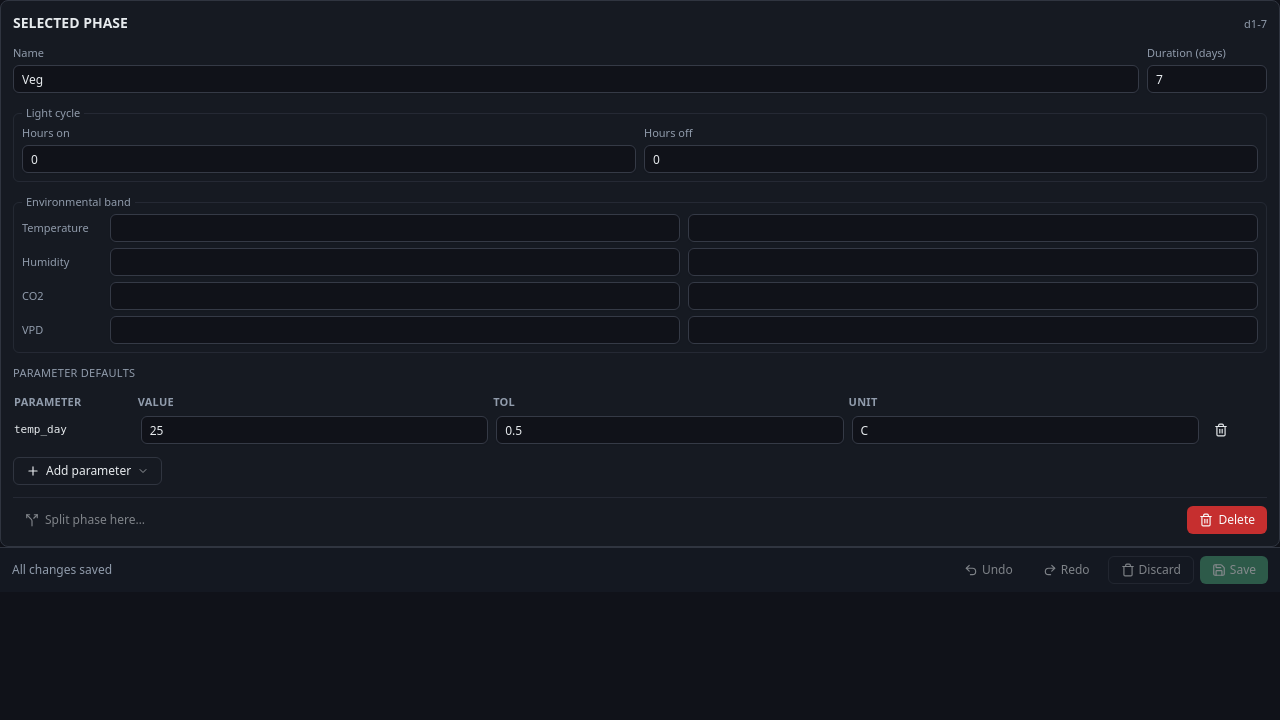
Scenario: <DiscardChangesDialog> + RESET_TO_SAVED smoke › opens on click, confirms RESET_TO_SAVED, clears dirty
The width and height of the screenshot is (1280, 720).
Replace the text in the field named "Value for temp_day" with "26" at (314,430), box [141,416,488,444]
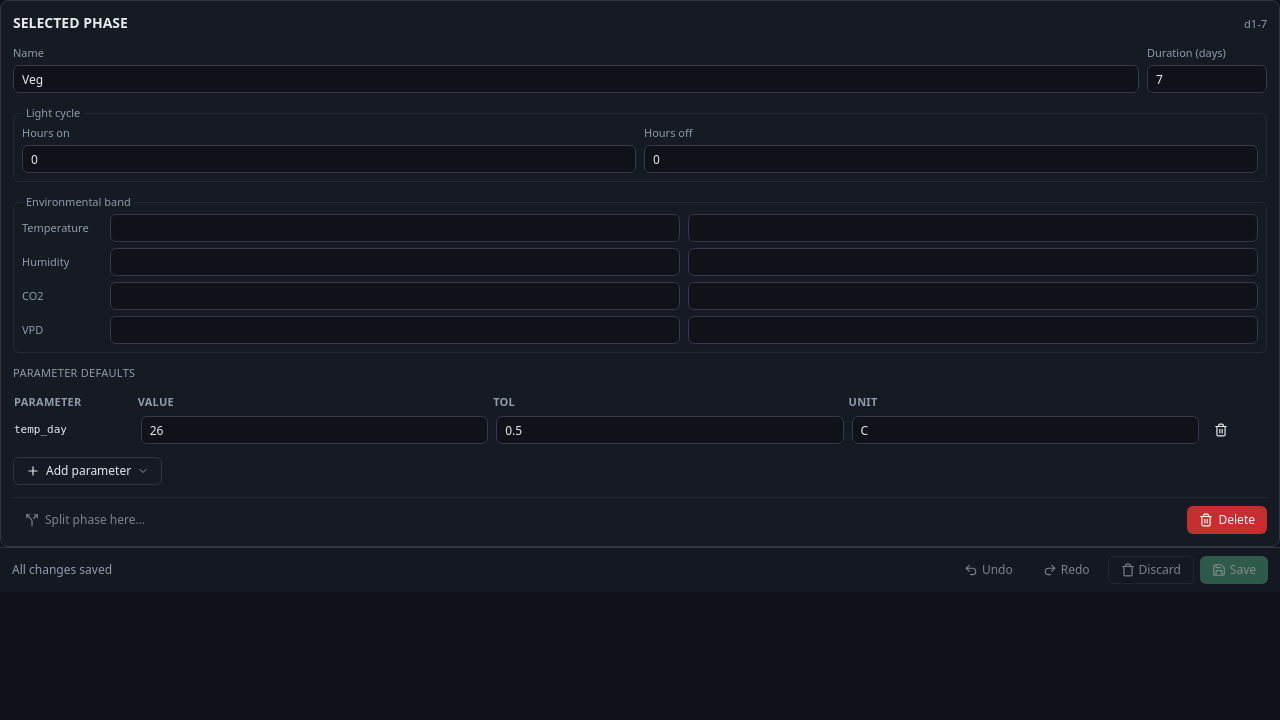
Leave the field named "Value for temp_day", box [141,416,488,444]
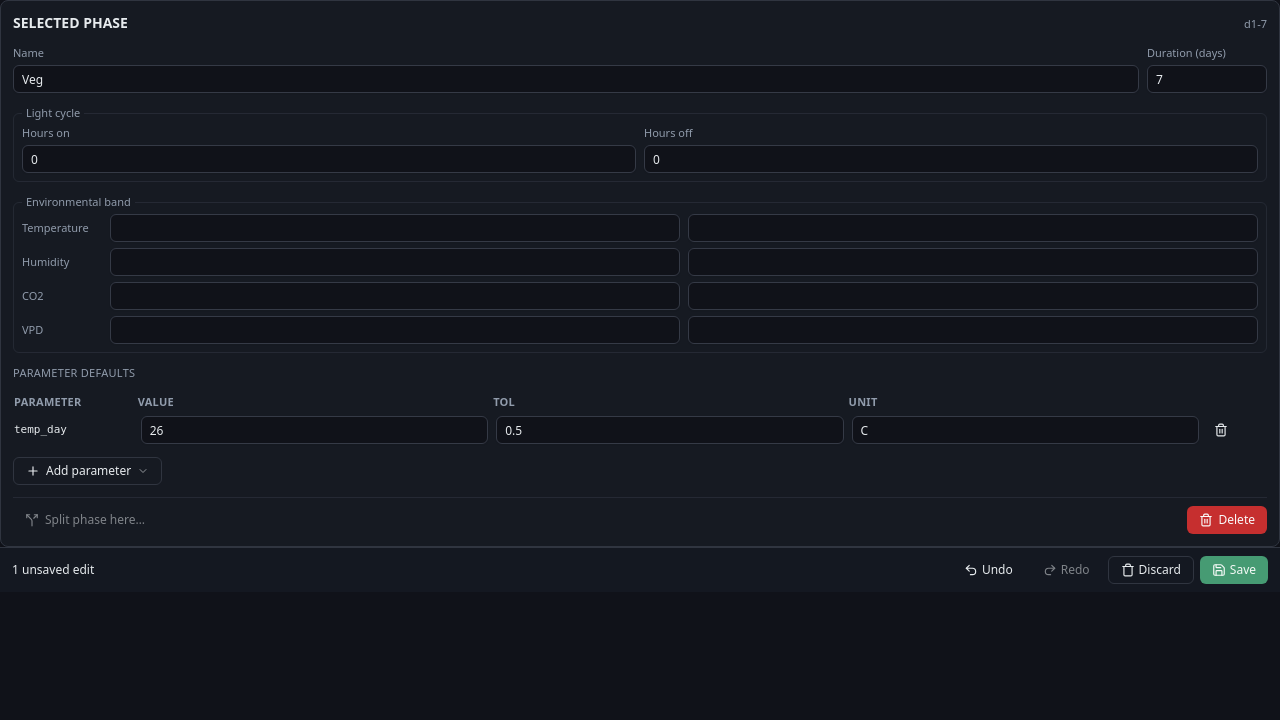
Expected: the text with test id "dirty-count" shows "unsaved", [12,561,94,578]
Open the dialog.
Click the button with test id "discard-changes-button" at (1151,570), box [1108,556,1194,584]
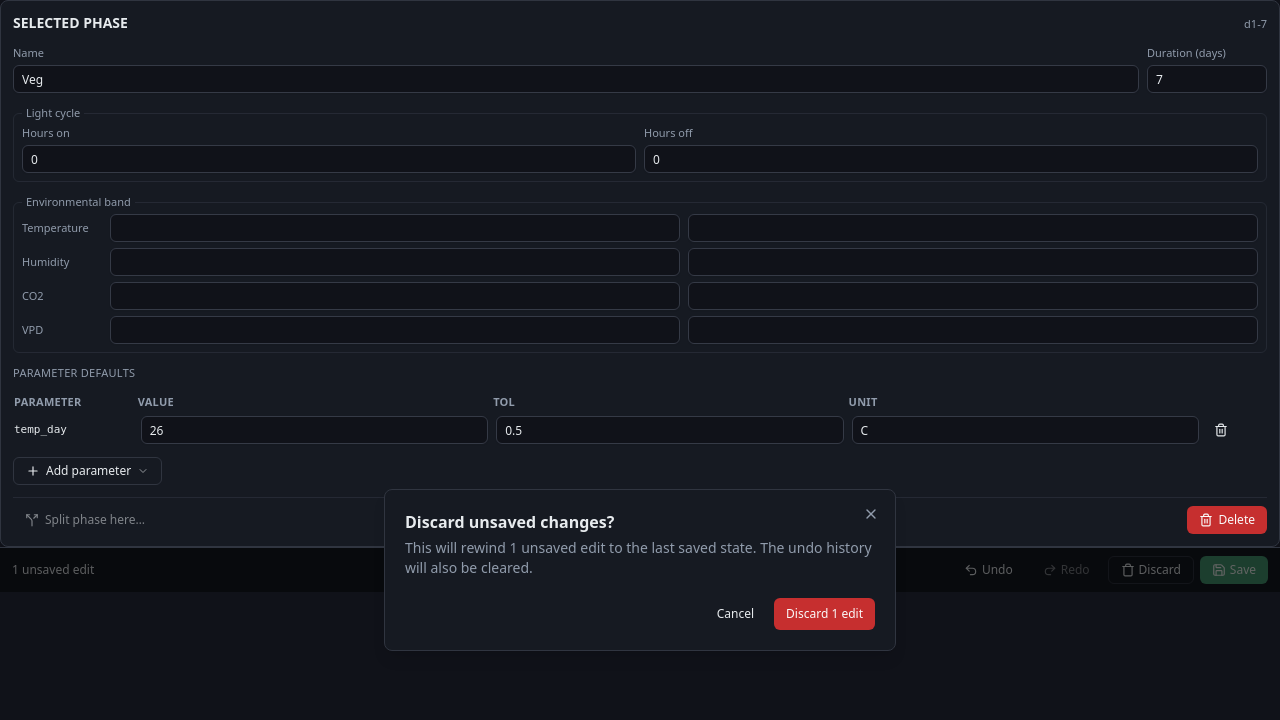
Click the button with test id "discard-changes-confirm" at (825,614), box [774,598,875,630]
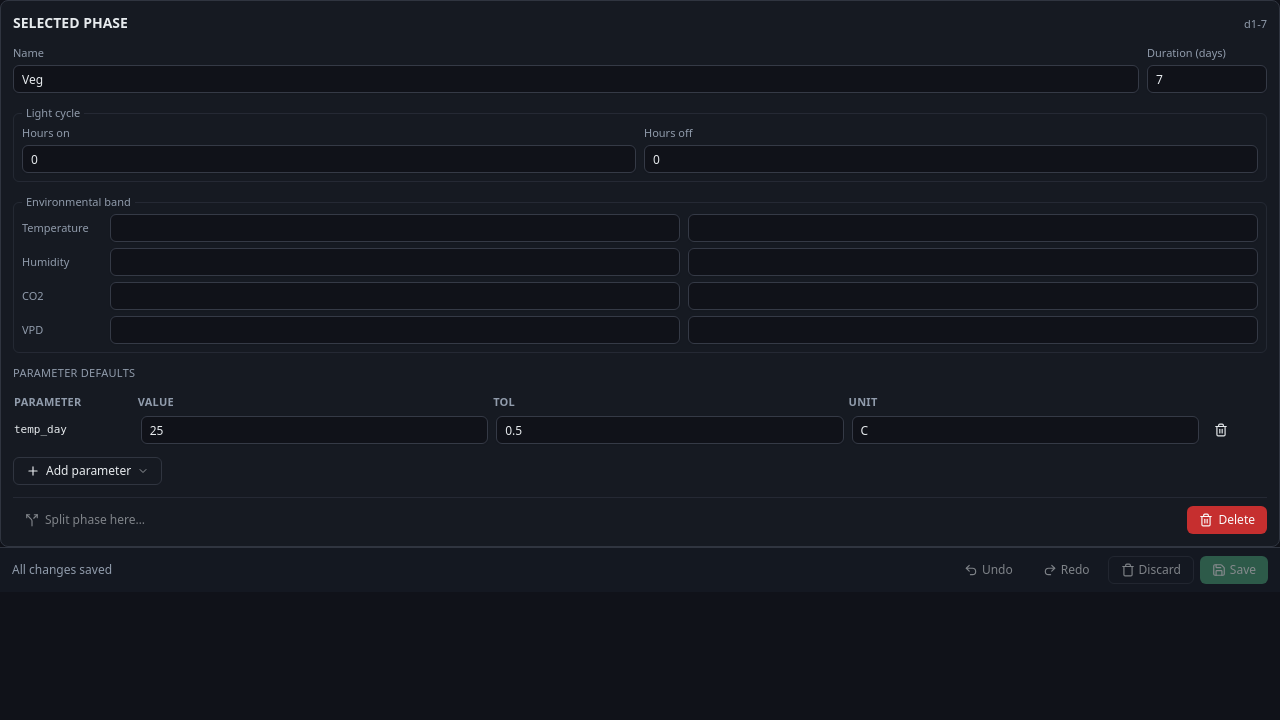
Expected: the text with test id "dirty-count" reads "All changes saved", [12,561,112,578]
